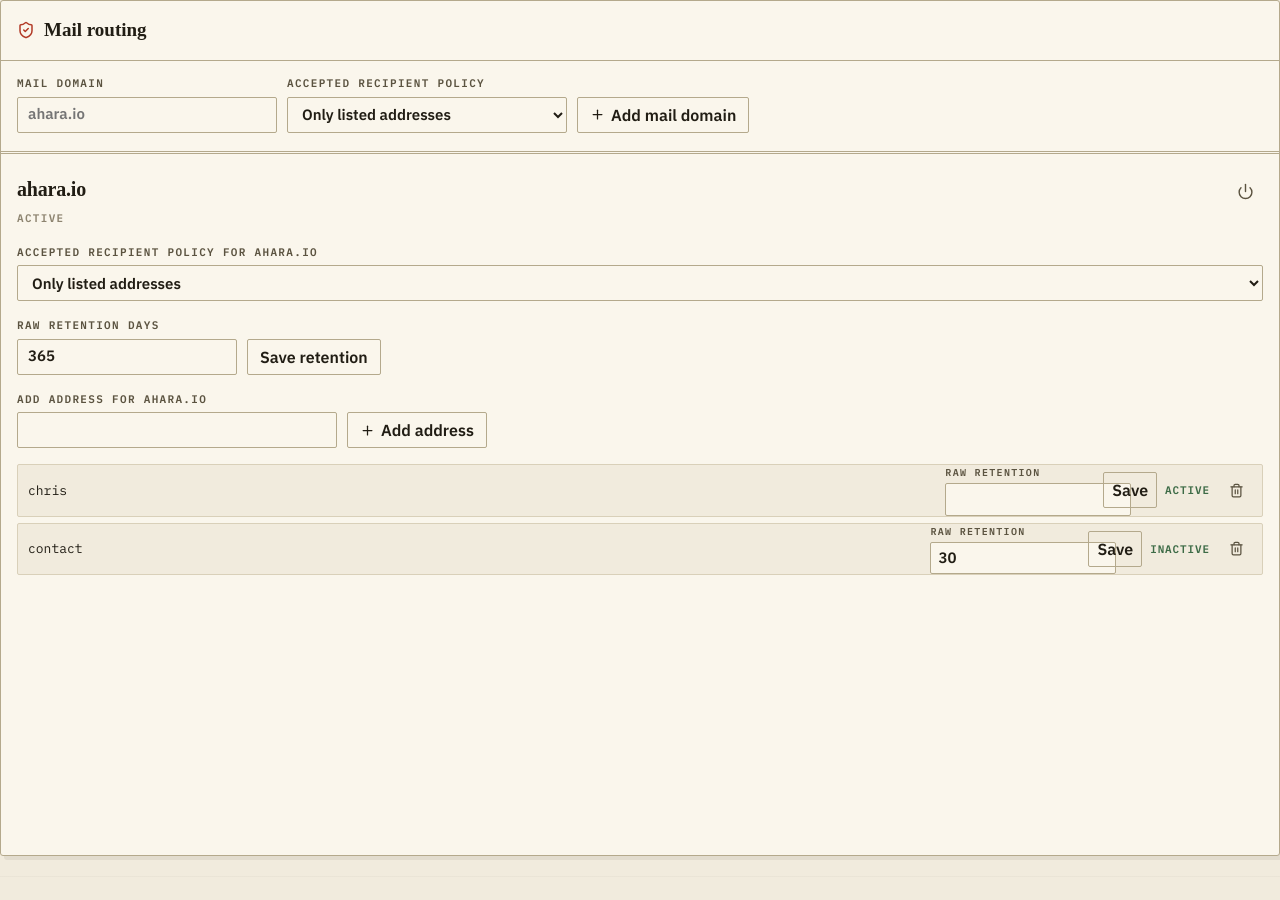
Test: RoutingAdmin › adds accepted local parts
Step 1. Type "support" into the field labelled "Add address for ahara.io" → (177, 430), box [17, 412, 337, 448]
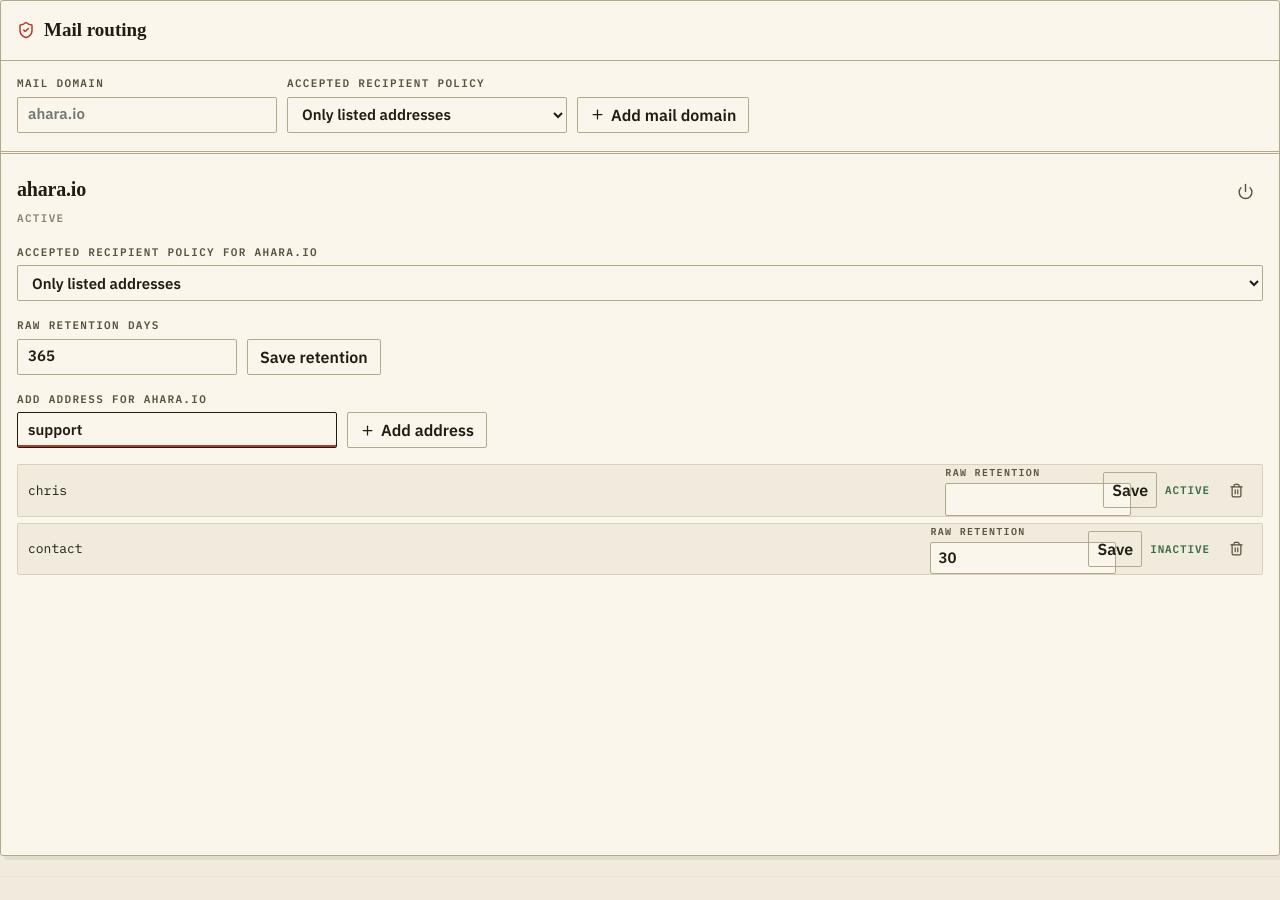
Step 2. Click the button "Add address" → (417, 430), box [347, 412, 487, 448]
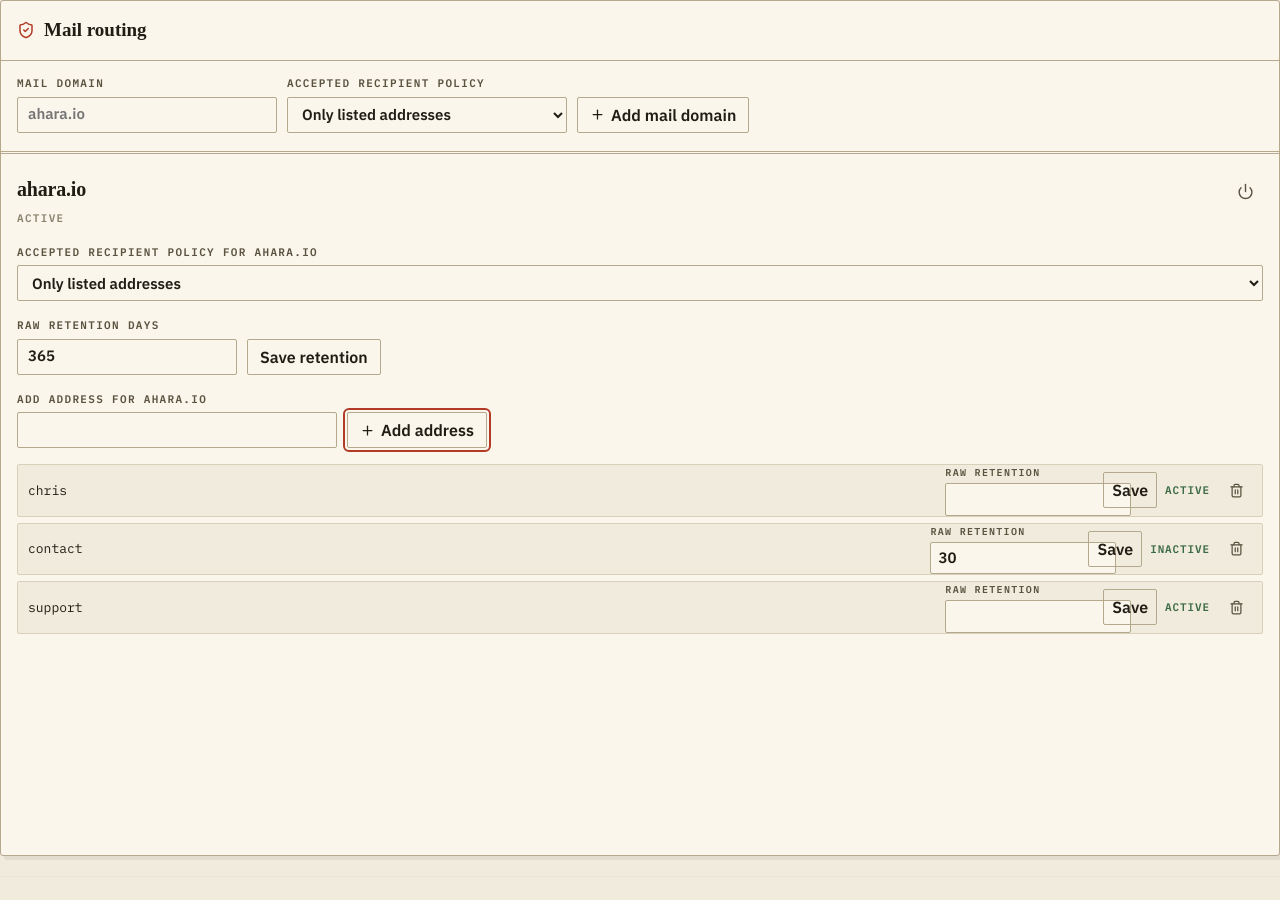
Result: the text "support" is shown at [28, 598, 83, 616]
